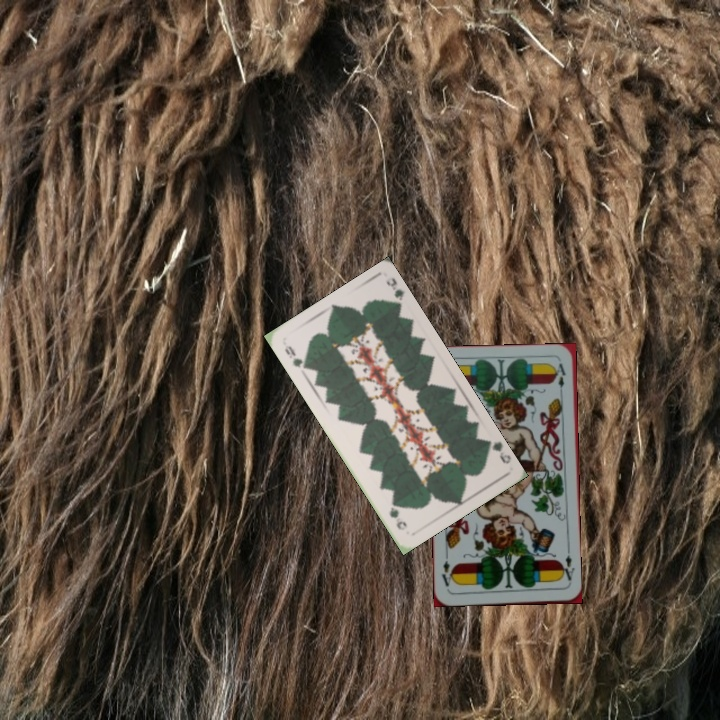EA: (557, 546, 577, 587)
G9: (481, 436, 513, 467), (281, 341, 311, 372)
